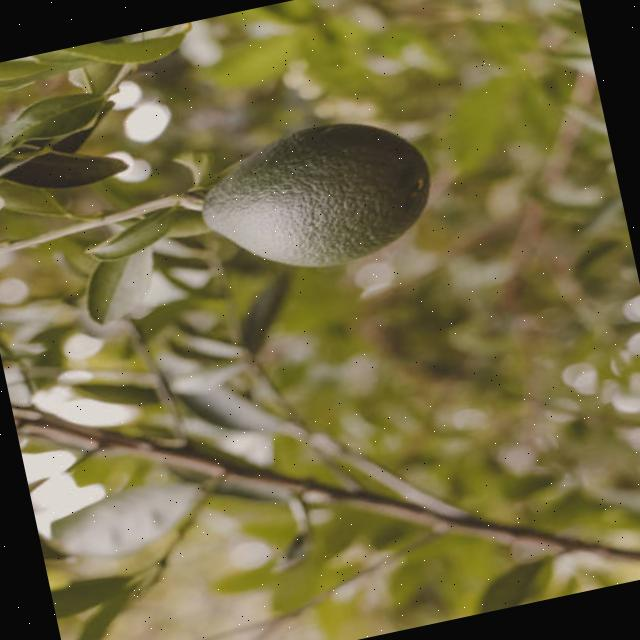Unripe: (185, 104, 444, 291)
